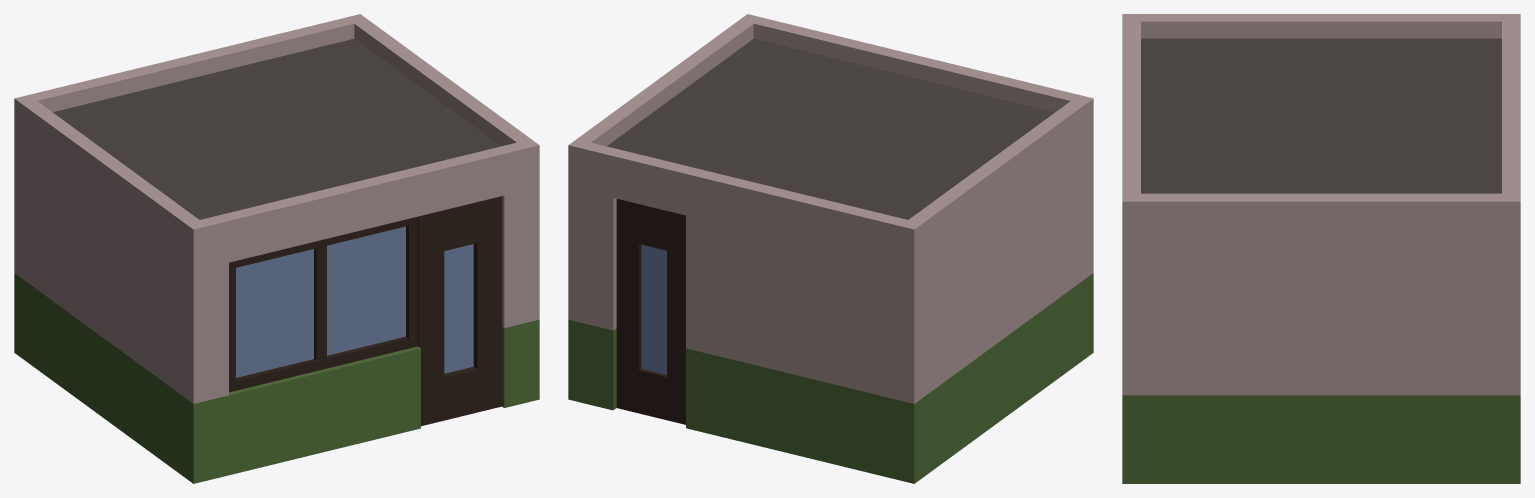
File: SmallBuilding_02.fbx
3 views of the same model, side by side, from view 1: azimuth 30°, elevation 25°; view 2: azimuth 150°, elevation 25°; view 3: azimuth 270°, elevation 25° (orthographic). The views are drawn at different scales.
Parts seen in each view (by area): view 1: SmallBuilding_02; view 2: SmallBuilding_02; view 3: SmallBuilding_02.
Boxes of the visible parts, <box> form: SmallBuilding_02: <box>14,14,539,483</box>; SmallBuilding_02: <box>568,14,1093,483</box>; SmallBuilding_02: <box>1122,14,1520,483</box>.
Bounding box in the file's own units: 5.22 × 3.67 × 4.69.
